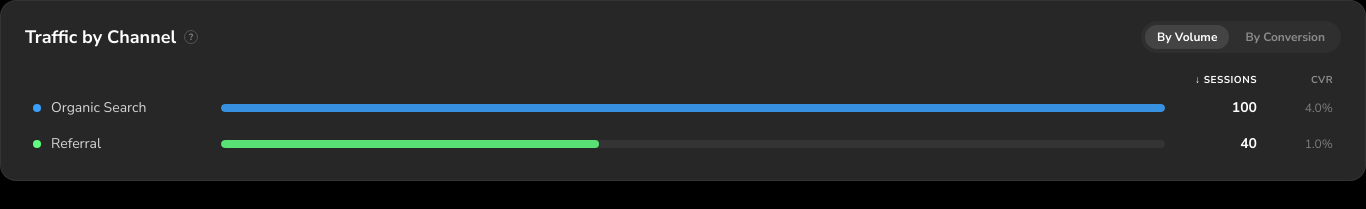
Scenario: a channel absent from the compare response reads the no-prior glyph, not "Prior period 0"
The width and height of the screenshot is (1366, 209).
Hover over the text "Referral" at (683, 144), box [33,134,1333,153]
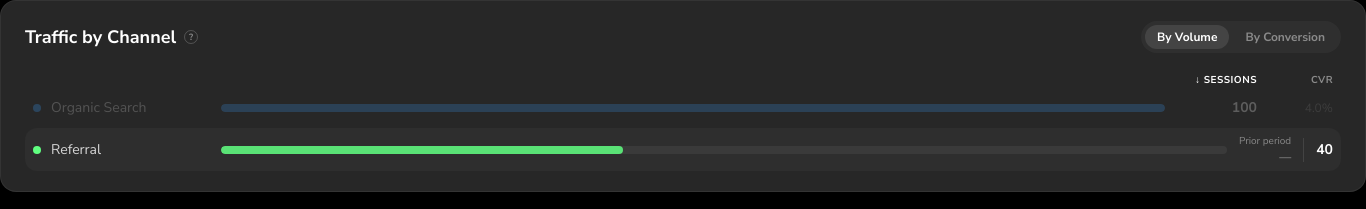
Check: the text "—" is shown, box [1279,149,1291,165]
